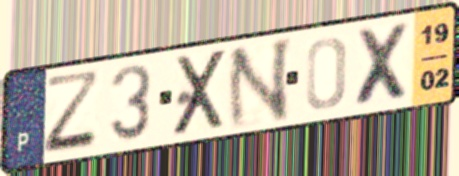0: (303, 34, 350, 111)
3: (108, 63, 153, 144)
N: (225, 33, 295, 133)
X: (169, 45, 231, 140), (352, 19, 414, 110)
Z: (41, 66, 104, 158)
